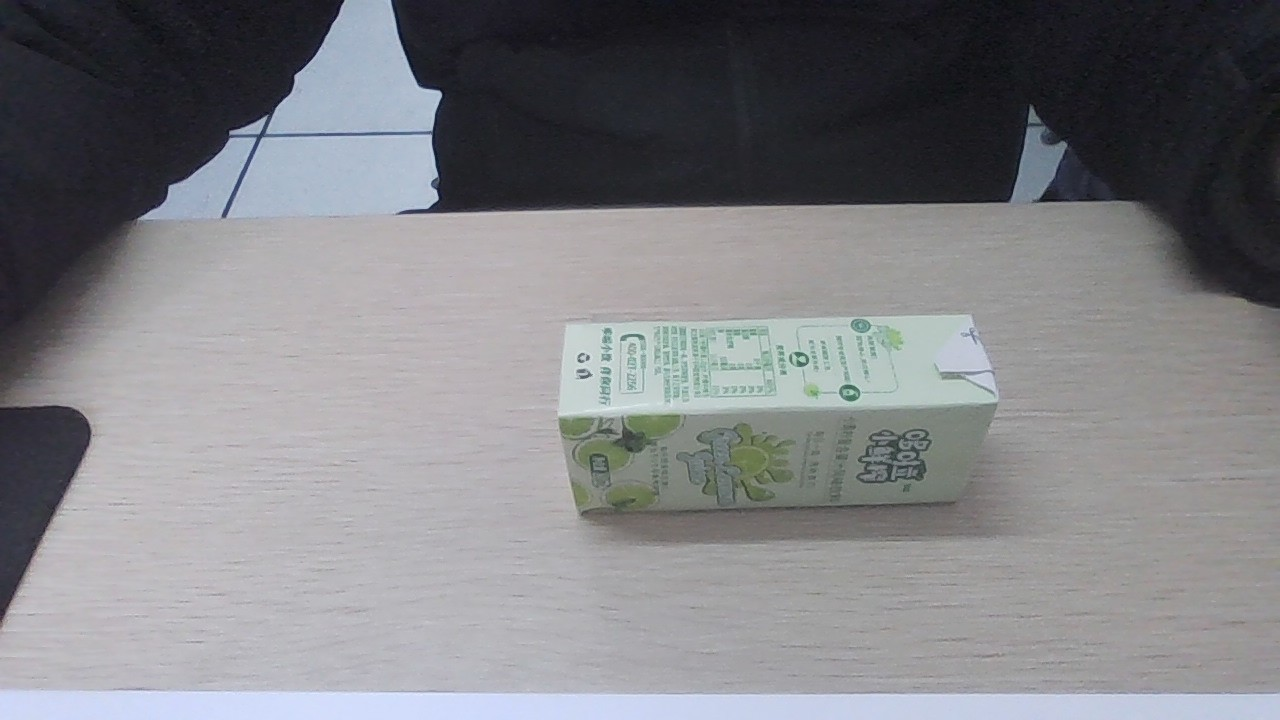CY-drink: (544, 315, 975, 508)
